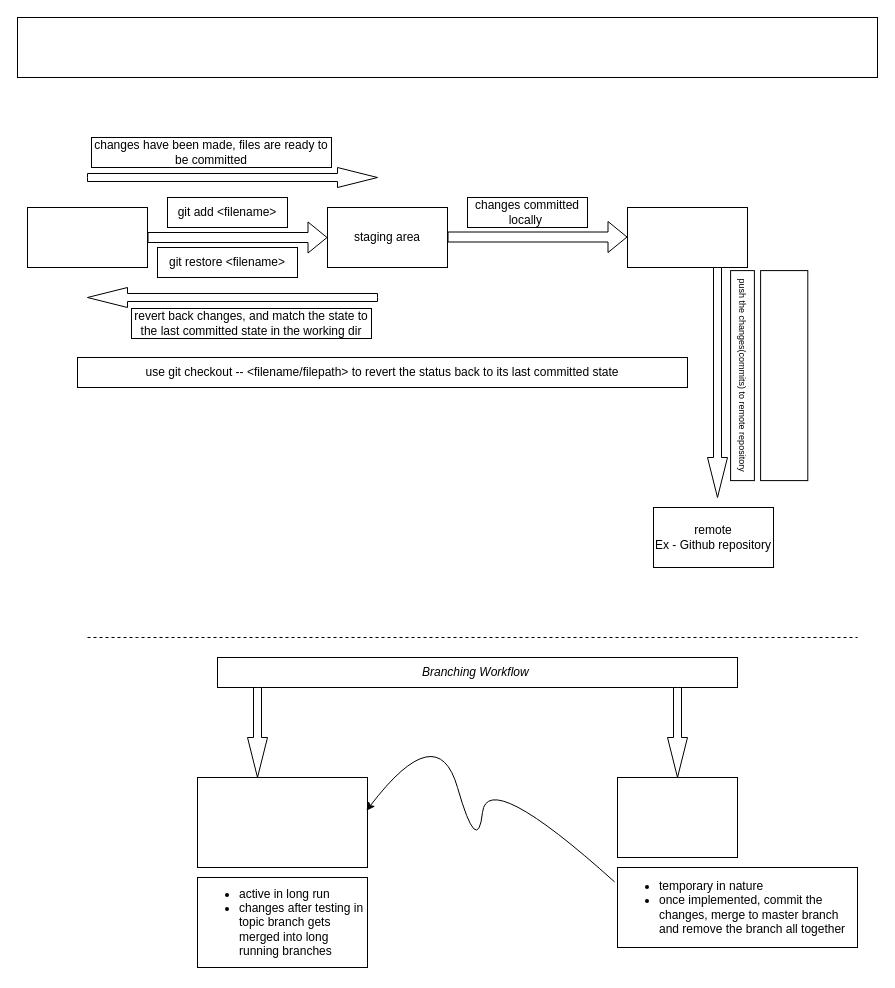
This 895x988 diagram has some shape labels left out. The box of each missing label's shape, as (x1, y1, x2, y2) in pixels:
.git reposatory: (626, 206, 748, 268)
ex : git push <remote repository> <local branch> git push remote master: (760, 270, 808, 481)
Git : 3 Stage Architecture: (16, 16, 878, 78)
Long Running Branches Master Development Proposed_Updates: (196, 776, 368, 868)
Topic Branches Issue1 Bug_Fix1: (616, 776, 738, 858)
working directory: (26, 206, 148, 268)
